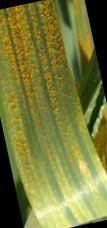Wheat: (0, 6, 66, 86), (7, 92, 79, 149)
